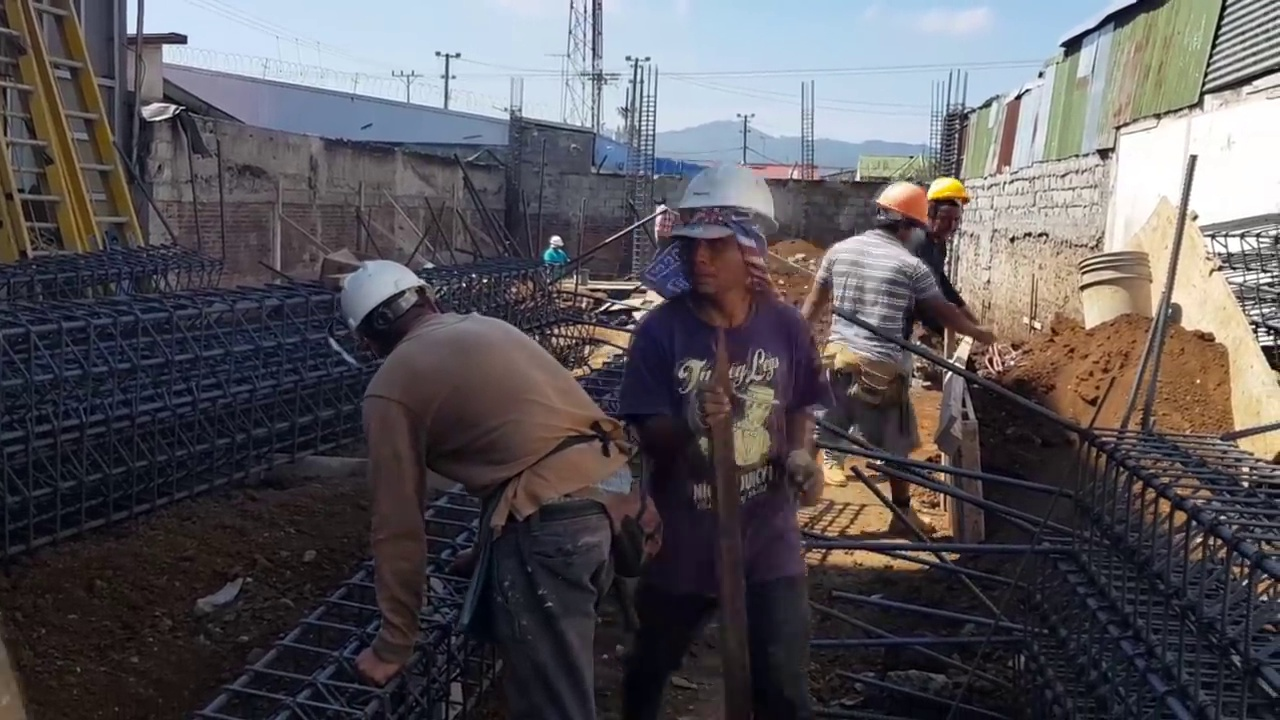helmet: (337, 262, 429, 354), (669, 161, 777, 238), (881, 180, 935, 224), (930, 174, 971, 208), (550, 236, 564, 247)
helmet-off: (651, 196, 670, 208)
helmet-on: (645, 162, 778, 315), (331, 262, 446, 366), (873, 177, 933, 247), (928, 173, 971, 245), (548, 237, 565, 252)
person: (332, 261, 636, 718), (622, 158, 826, 718), (806, 172, 997, 541), (903, 172, 972, 336), (651, 197, 678, 251), (545, 237, 569, 280)
